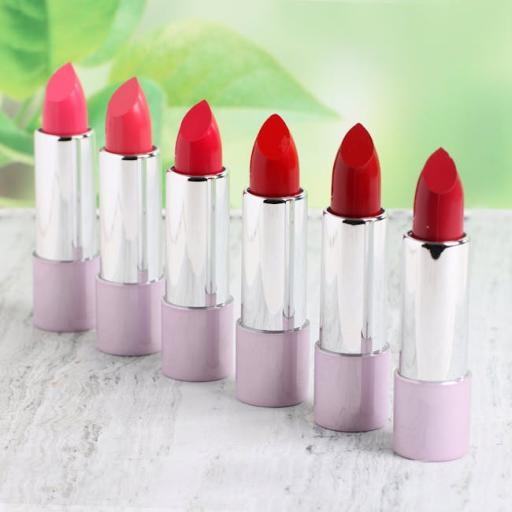lipstick: (394, 149, 471, 460), (315, 124, 389, 431), (236, 115, 309, 406), (161, 101, 233, 381), (97, 78, 164, 355), (34, 64, 99, 331)
